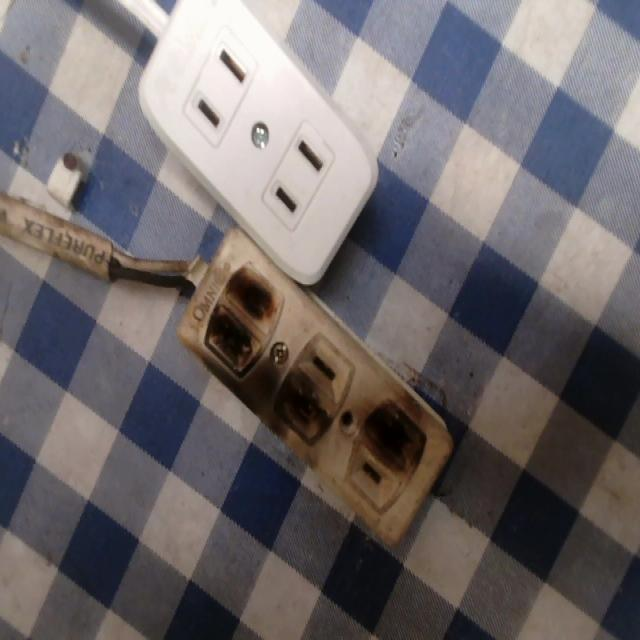-: (203, 262, 286, 382), (359, 385, 434, 488), (271, 380, 328, 455)
